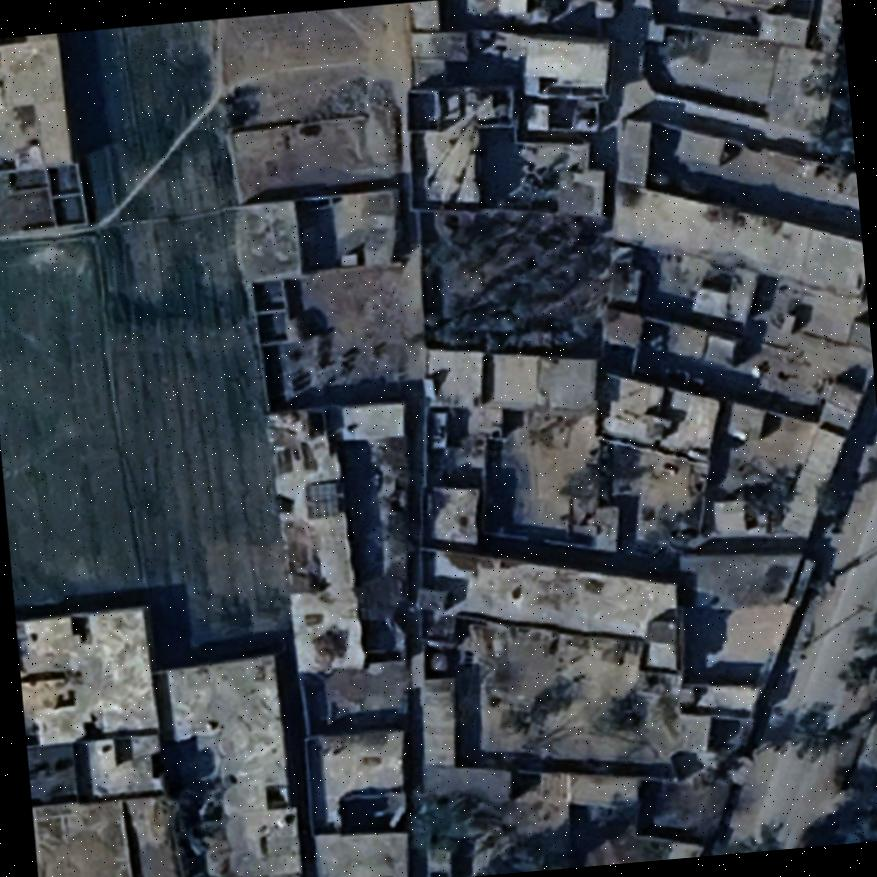Solarpanel: (301, 476, 342, 520)
